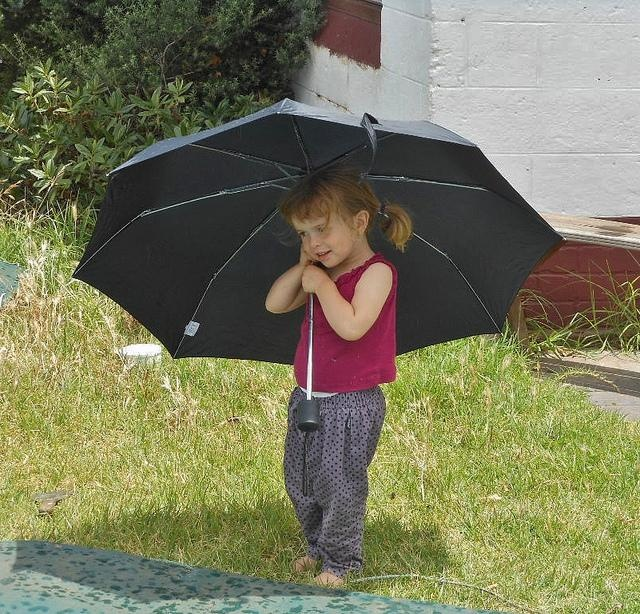person: (257, 170, 409, 597)
